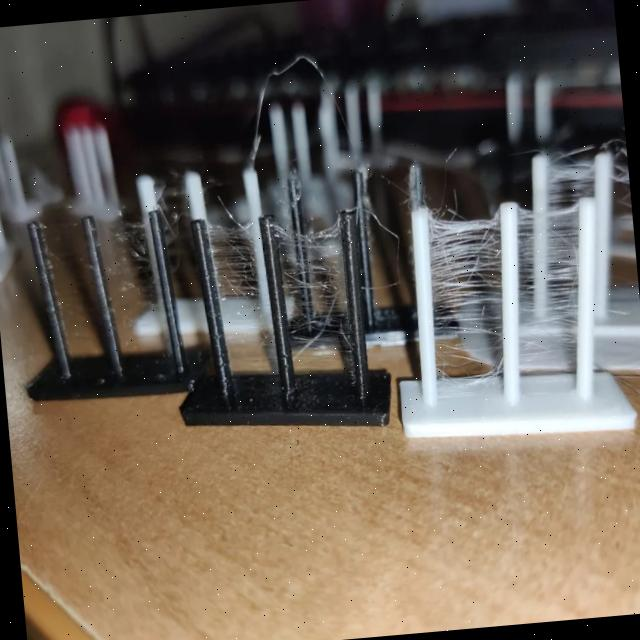stringing: (247, 42, 365, 166), (430, 211, 500, 393), (203, 217, 277, 377), (277, 220, 350, 381), (517, 198, 578, 390), (93, 218, 170, 359), (39, 222, 106, 352), (550, 155, 591, 200), (609, 130, 632, 209)
